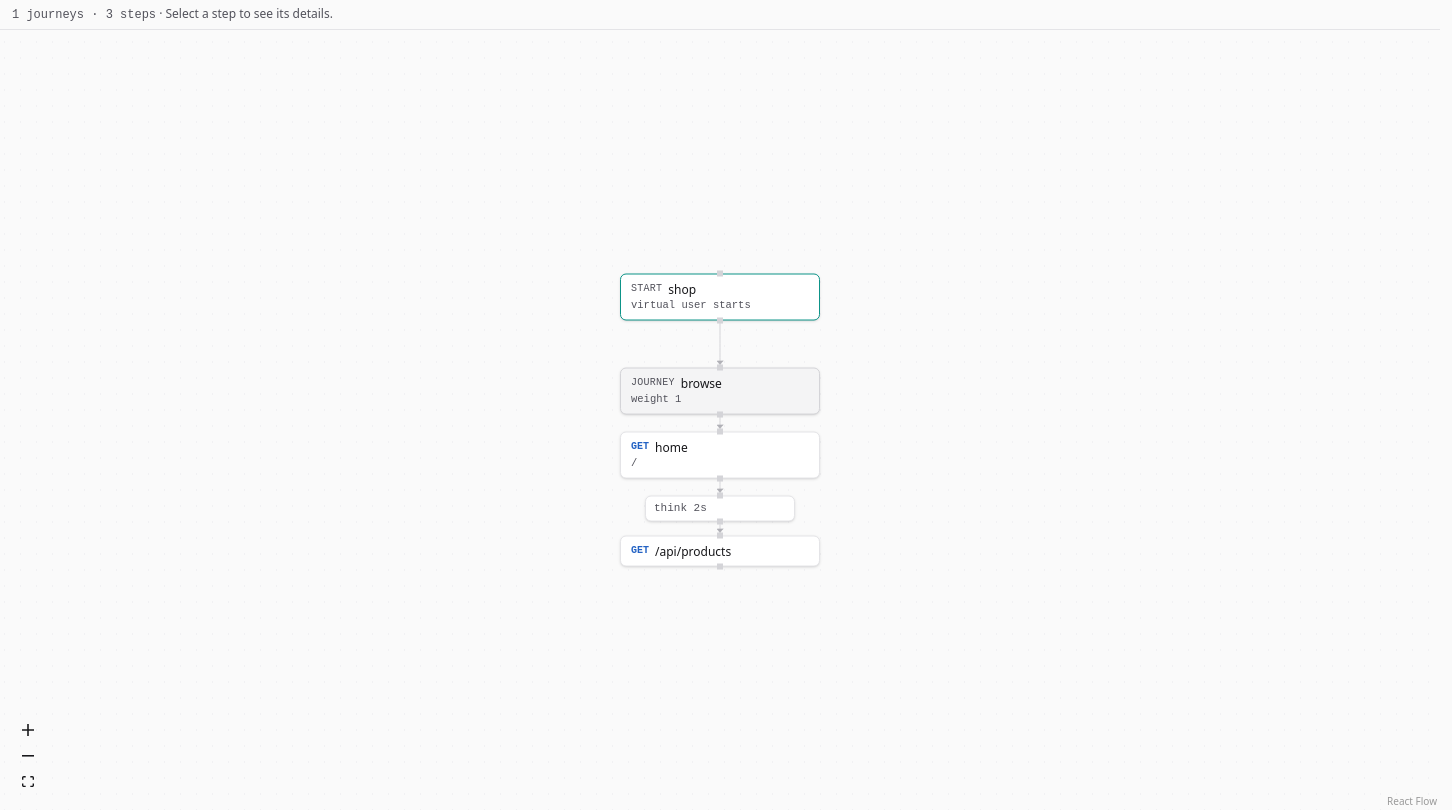
JourneyGraphView › shows a selected request read-only, with no way to edit it
Expected: the text "1 journeys · 3 steps · Select a step to see its details." is shown, [0,0,1440,30]
Click the element labelled "GET home /": (720, 455) [620,432,820,478]
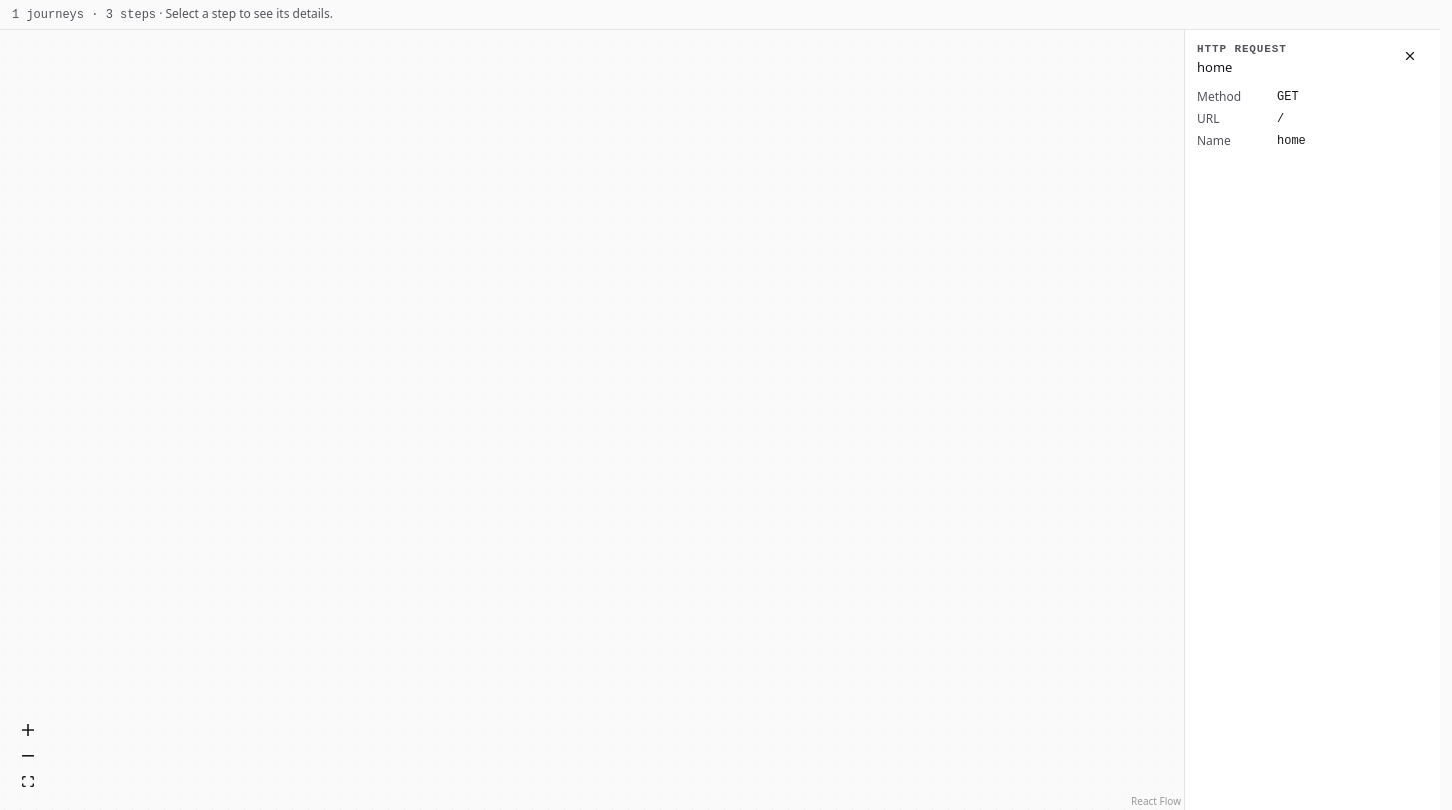
Expected: the text "GET" is shown, [1277,90,1299,104]
Now the text "HTTP request" is shown, box [1197,43,1287,55]
